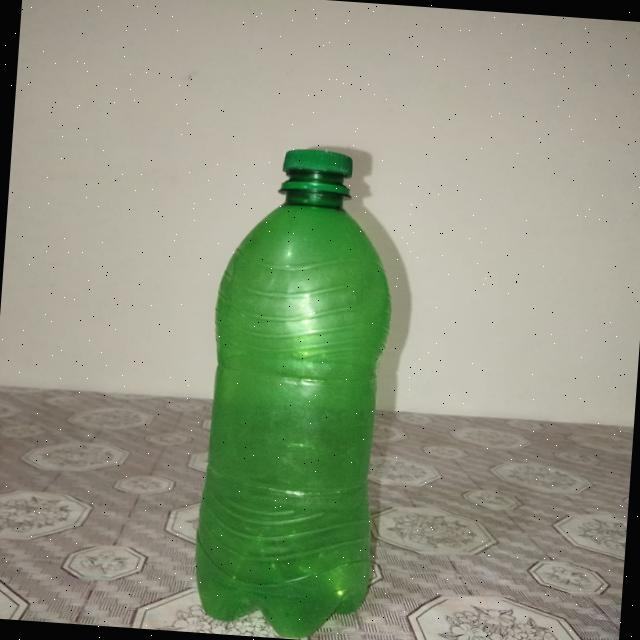bottle: (189, 143, 403, 640)
cap: (272, 146, 358, 198)
